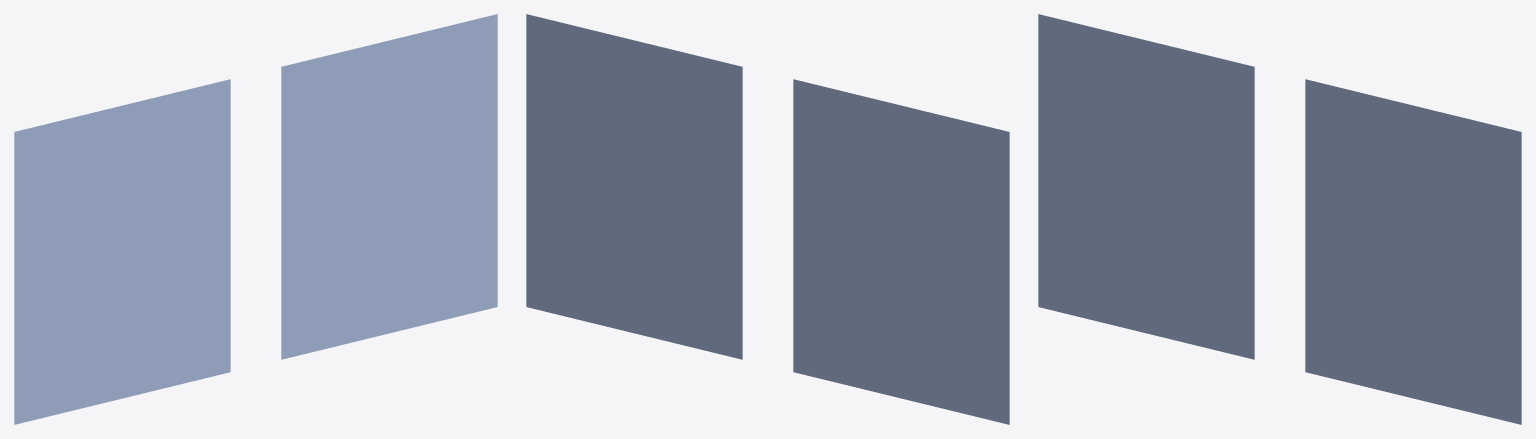
File: normal-map-missing-tangent.glb
3 views of the same model, side by side, from view 1: azimuth 30°, elevation 25°; view 2: azimuth 150°, elevation 25°; view 3: azimuth 330°, elevation 25° (orthographic).
Parts seen in each view (by area): view 1: NormalMapComparisonPair; view 2: NormalMapComparisonPair; view 3: NormalMapComparisonPair.
Part boxes in pixels (bbox=[...]): NormalMapComparisonPair: bbox=[14, 14, 497, 424]; NormalMapComparisonPair: bbox=[526, 14, 1009, 424]; NormalMapComparisonPair: bbox=[1038, 14, 1521, 424].
Bounding box in the file's own units: 1.9 × 1.1 × 0.
